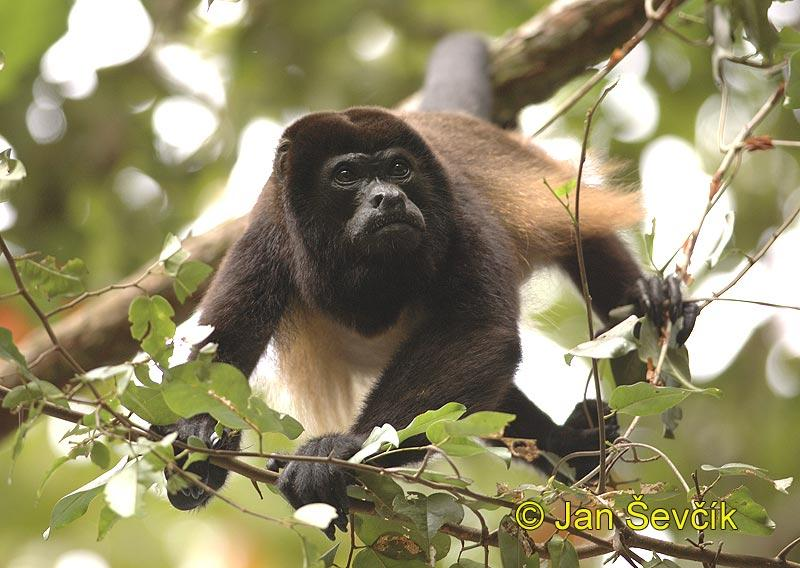monkey: (197, 107, 642, 461)
